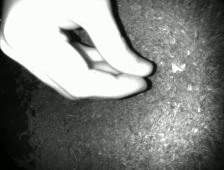corn: (170, 61, 179, 75), (179, 61, 186, 73)
